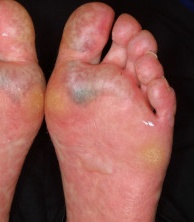SJS-TEN: (29, 0, 190, 222), (0, 0, 47, 222)
